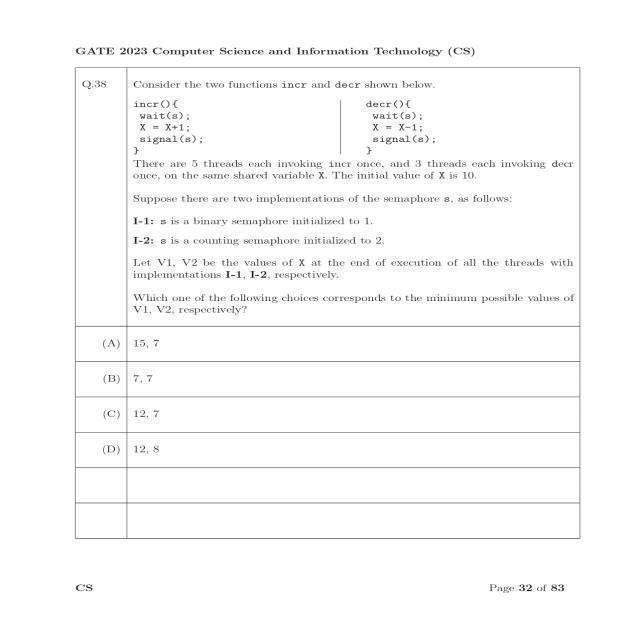Answer_Block: (78, 331, 580, 503)
Question_Answer_Block: (75, 70, 580, 503)
Question_Block: (78, 71, 576, 325)
Question_Paper_Area: (75, 68, 580, 538)
